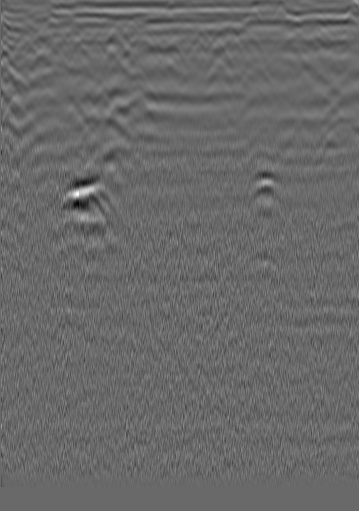가스: (248, 166, 287, 209)
상수: (3, 18, 23, 38)
오수: (304, 8, 324, 28)
우수: (142, 12, 162, 32)
